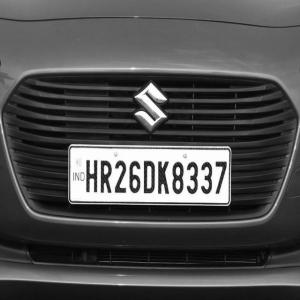Plate: (68, 144, 232, 206)
